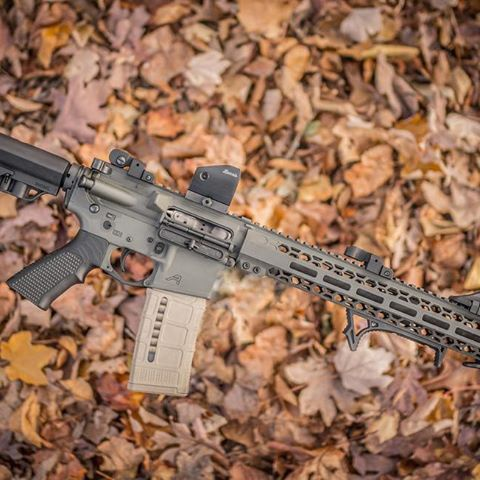ak47: (1, 133, 478, 397)
